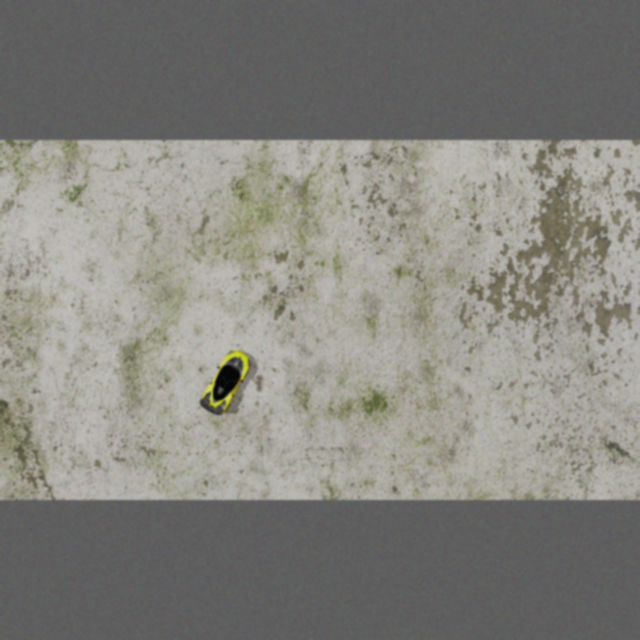car: (195, 345, 257, 420)
